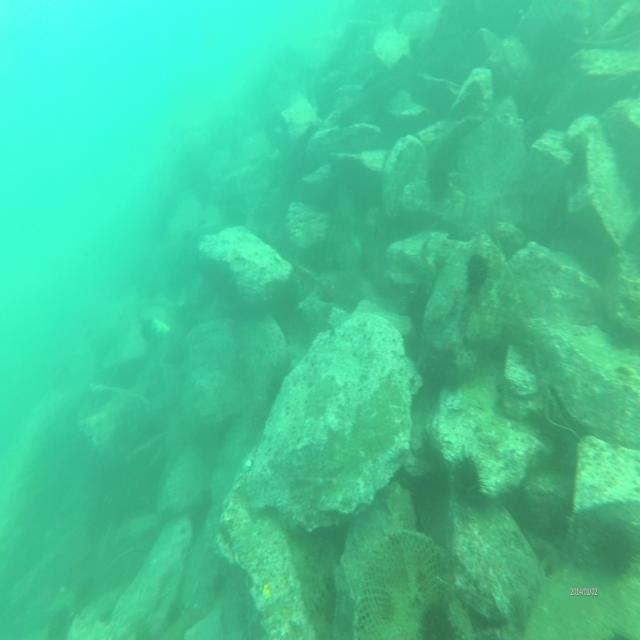echinus: (452, 442, 487, 518), (594, 524, 633, 588), (422, 597, 454, 640), (464, 250, 492, 296)
